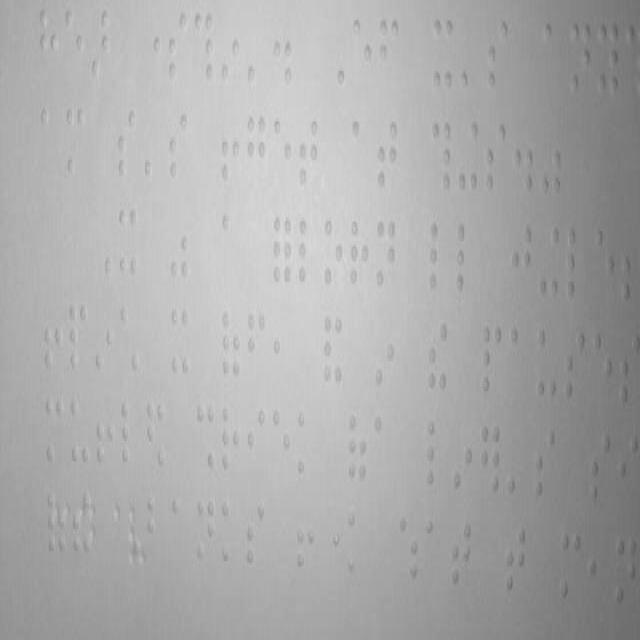braiile: (556, 526, 588, 612), (534, 324, 564, 414), (594, 12, 622, 104), (448, 514, 476, 606), (373, 116, 402, 204), (244, 106, 272, 196), (166, 106, 194, 196), (586, 424, 614, 514), (566, 13, 594, 102), (65, 102, 93, 191), (533, 422, 561, 511), (503, 518, 531, 606), (487, 17, 515, 104), (296, 208, 324, 294), (611, 528, 639, 614), (428, 212, 454, 304), (66, 294, 92, 386), (66, 391, 94, 476), (482, 118, 510, 202), (591, 324, 617, 414), (291, 403, 321, 481), (37, 0, 63, 89), (39, 100, 65, 189), (594, 218, 618, 314), (429, 12, 457, 94), (510, 317, 534, 412), (243, 496, 271, 576), (508, 218, 534, 302), (564, 321, 588, 412), (424, 414, 452, 492), (348, 117, 374, 199), (614, 430, 640, 512), (345, 504, 373, 580), (456, 214, 480, 302), (243, 396, 267, 484), (424, 516, 448, 604), (377, 15, 403, 96), (296, 115, 322, 196), (116, 204, 142, 284), (479, 322, 505, 402), (372, 411, 398, 491), (170, 304, 193, 394), (63, 6, 87, 92), (351, 8, 375, 94), (115, 104, 139, 189), (374, 211, 398, 296), (244, 300, 268, 384), (267, 398, 291, 482), (618, 324, 640, 414), (167, 6, 190, 92), (566, 224, 590, 306), (542, 11, 564, 100), (272, 116, 296, 196), (346, 214, 370, 294), (120, 394, 144, 474), (218, 206, 242, 284), (220, 400, 242, 484), (194, 493, 218, 569), (44, 386, 64, 476), (219, 494, 243, 568), (324, 209, 344, 289)
